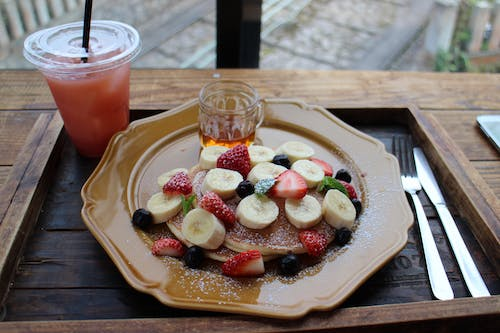knife: (412, 146, 492, 299)
